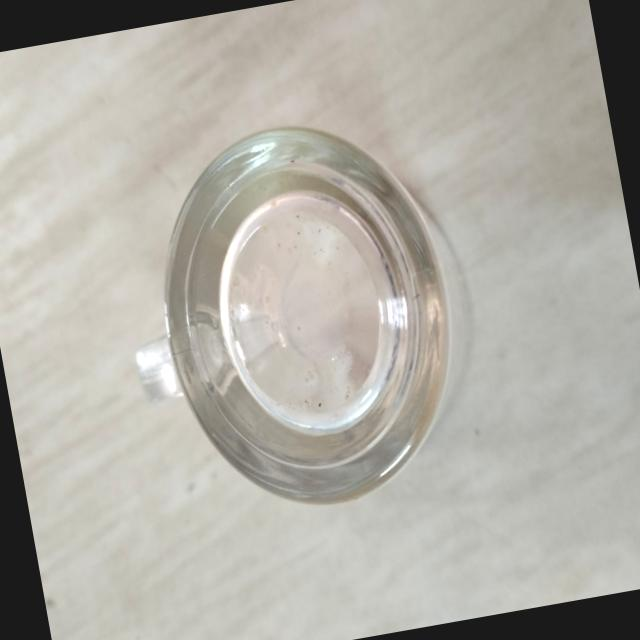glass-VX4N: (100, 102, 480, 534)
